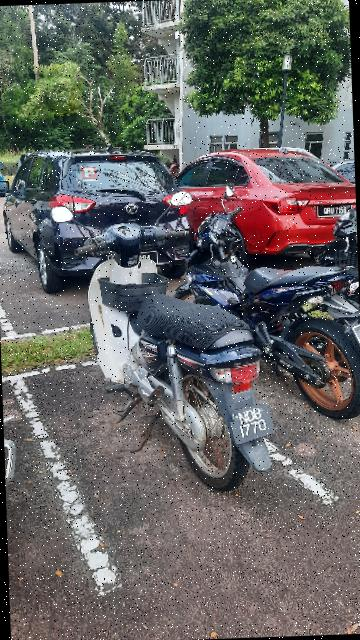License_Plate: (231, 400, 278, 448)
car: (1, 140, 195, 297), (164, 144, 359, 271)
motorcycle: (49, 185, 280, 500), (160, 171, 360, 430)
